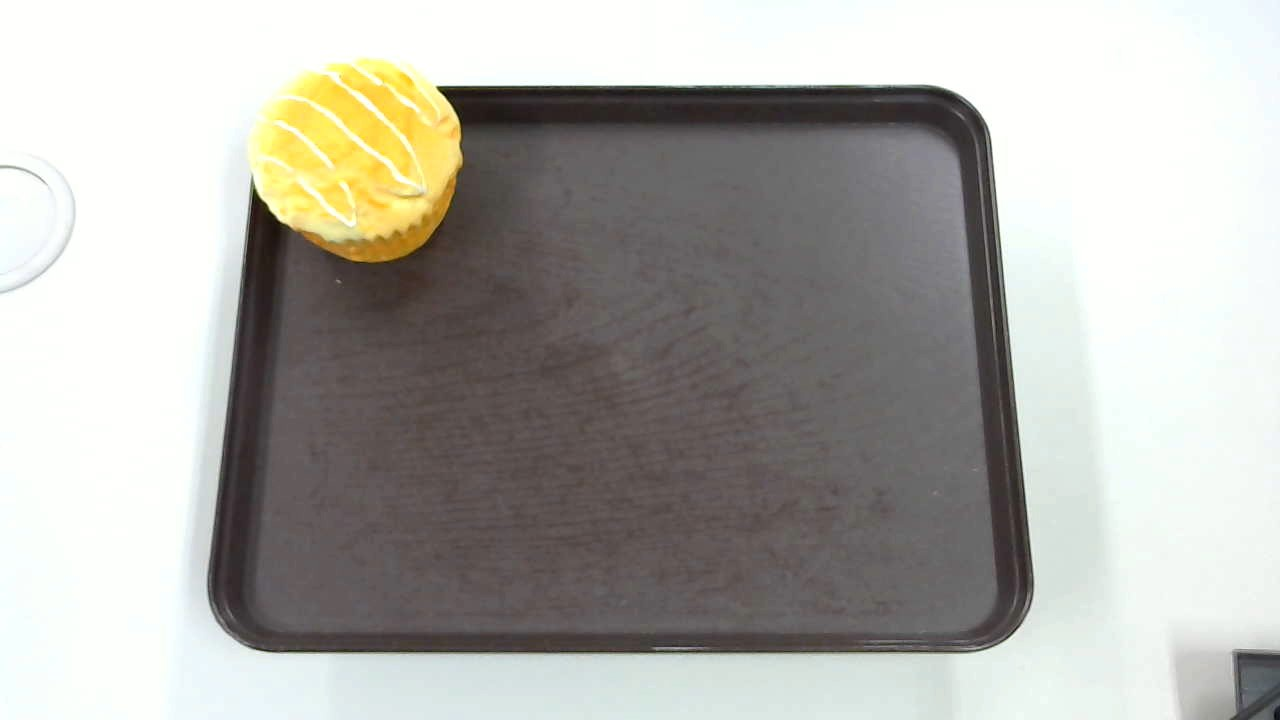cupcake: (249, 58, 464, 262)
